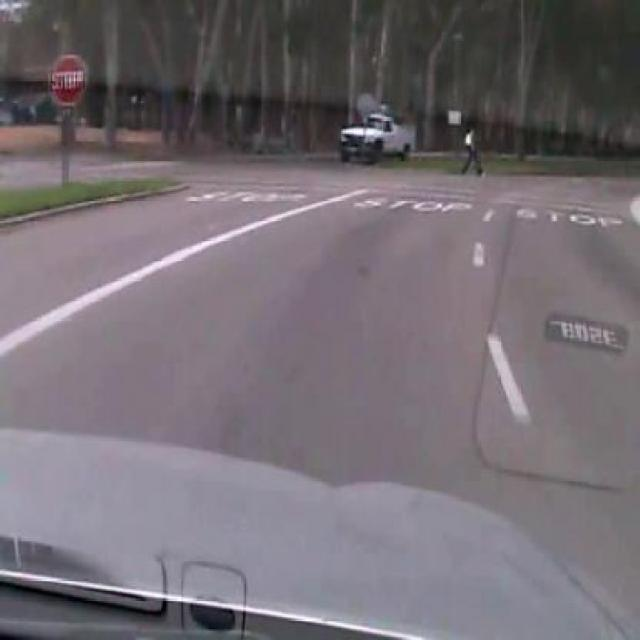traffic_sign: (46, 53, 88, 105)
